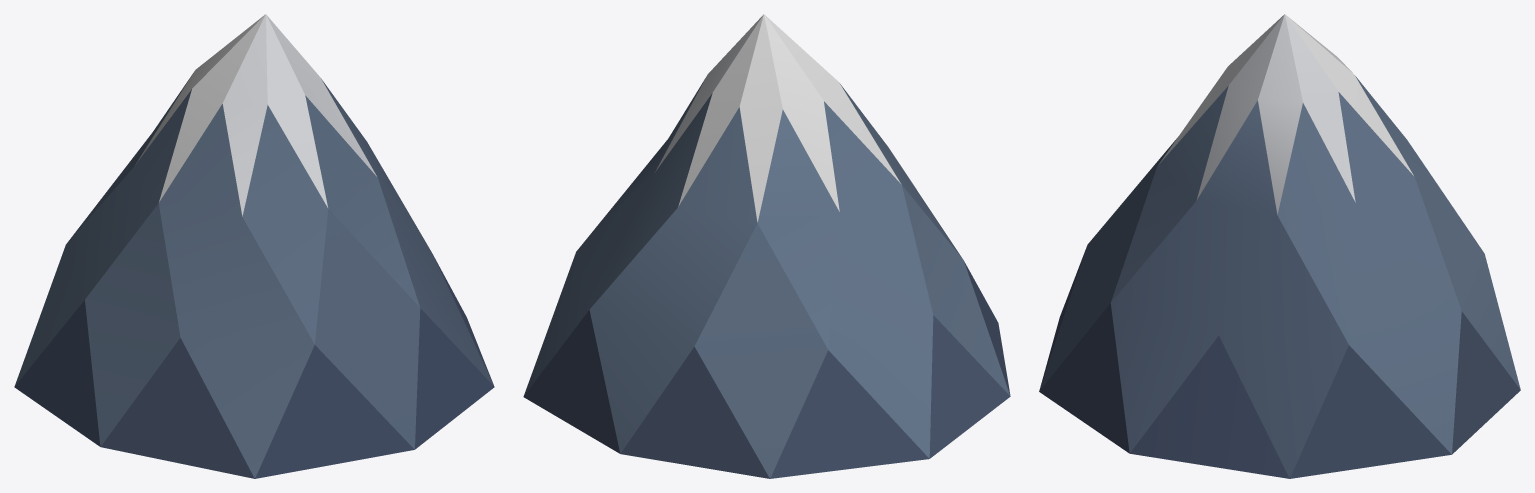
File: MountainTall.fbx
The picture shows the model from 3 angles, left to right: view 1: azimuth 30°, elevation 25°; view 2: azimuth 150°, elevation 25°; view 3: azimuth 270°, elevation 25°; orthographic projection. The views are drawn at different scales.
Parts seen in each view (by area): view 1: SM_Env_MountainTall; view 2: SM_Env_MountainTall; view 3: SM_Env_MountainTall.
Part boxes in pixels (x1,y1,x2,y2): SM_Env_MountainTall: (14,14,494,478); SM_Env_MountainTall: (523,14,1010,478); SM_Env_MountainTall: (1039,14,1520,478).
Bounding box in the file's own units: 9.69 × 8 × 9.62.
